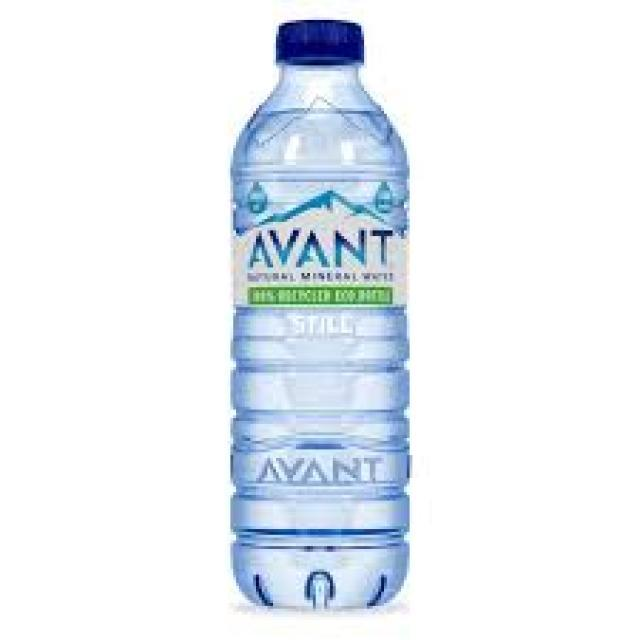bottle: (185, 1, 459, 605)
